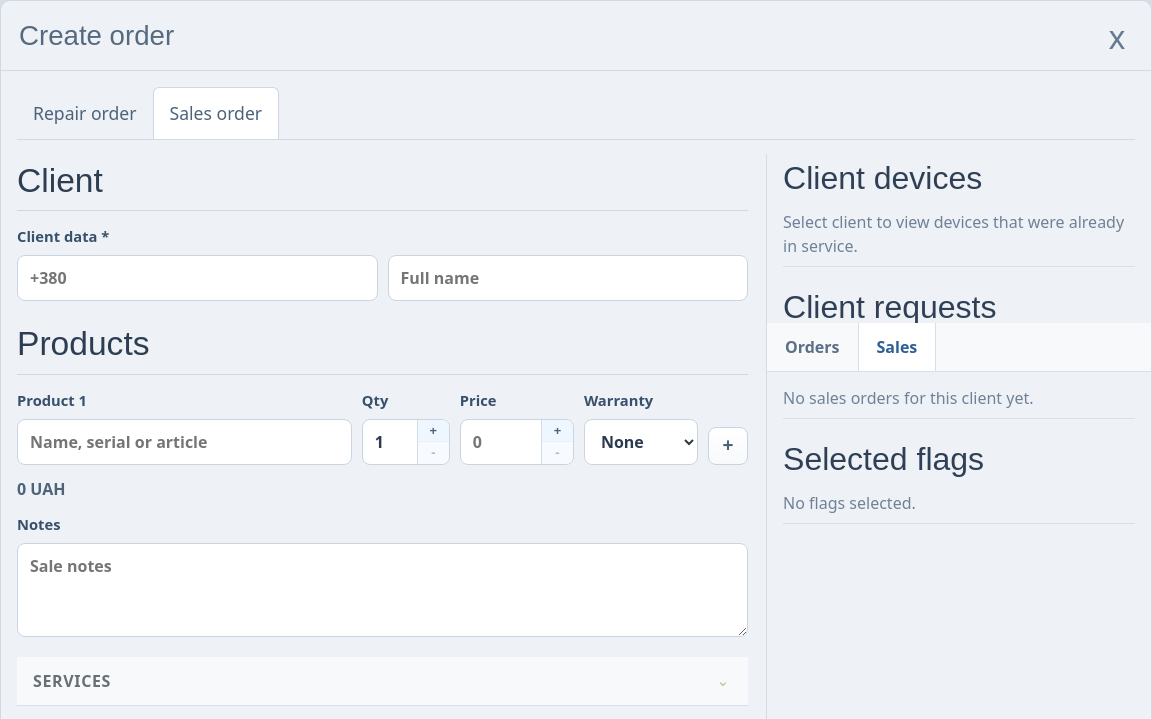
Test: CreateOrderCard › prefills retail price and product binding for bulk stock without serial
Type "USB-C" into the field with placeholder "Name, serial or article" at x=184, y=442, box [17, 419, 352, 465]
Wait 400 ms
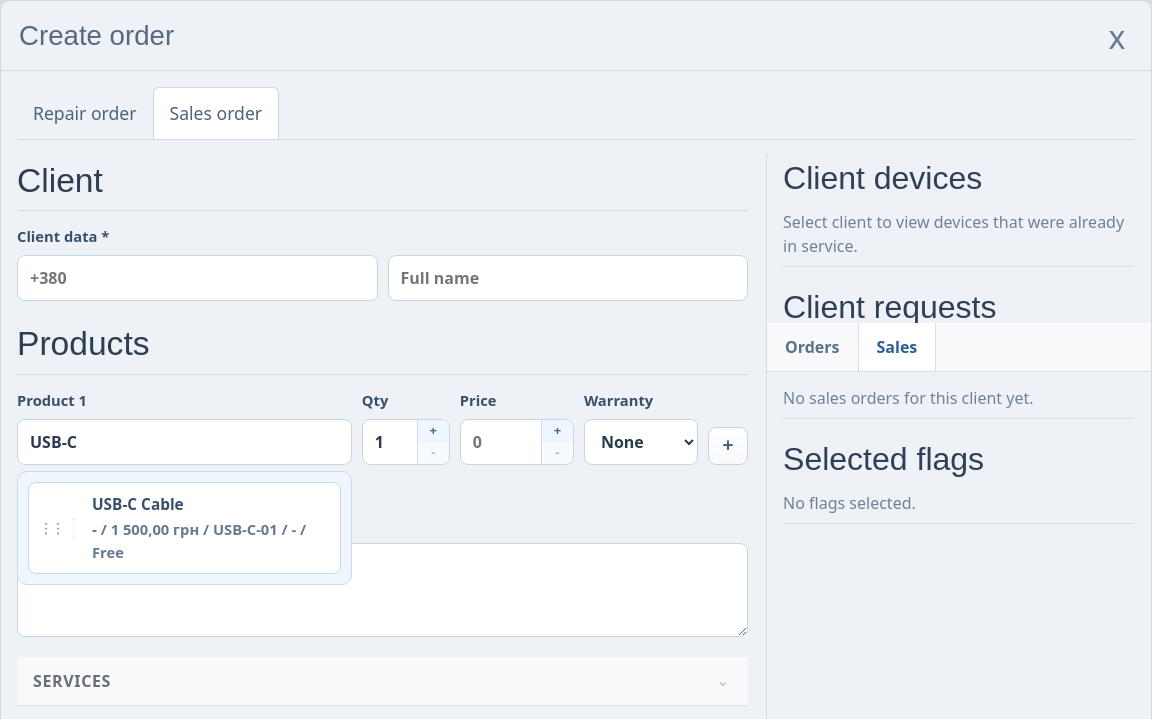
expect the text "USB-C Cable" is shown: met
Click the text "USB-C Cable" at x=138, y=504, box [92, 494, 184, 515]
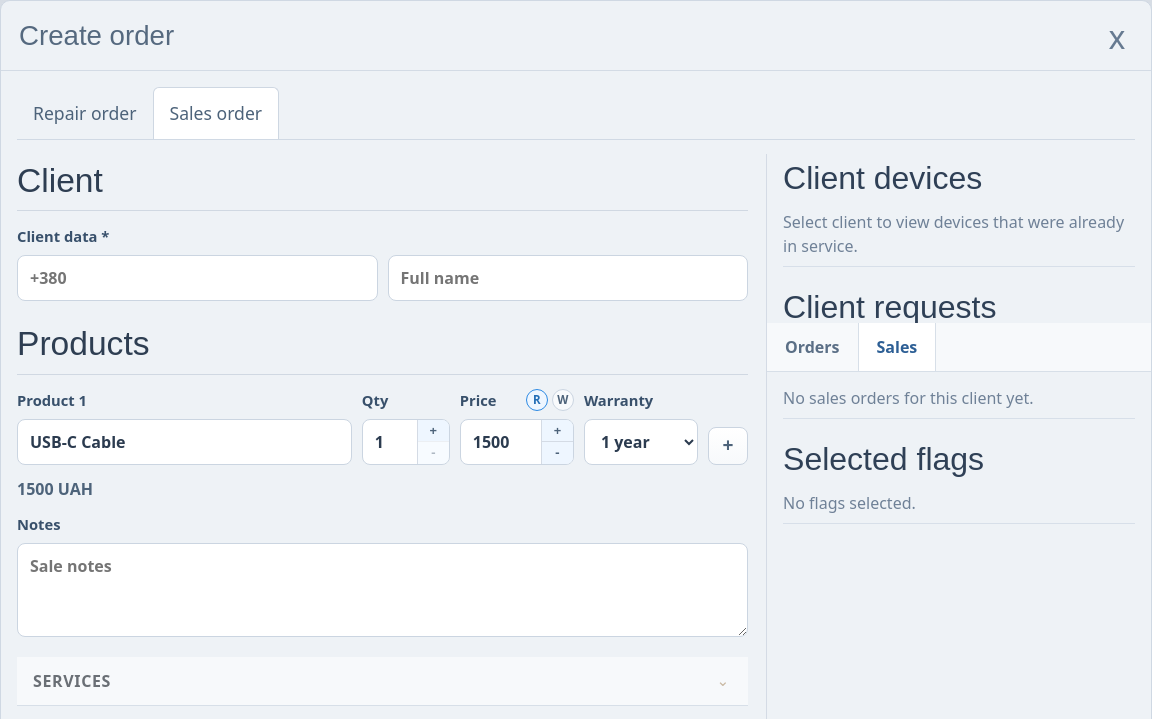
expect the button named "Retail" is shown: met, box [526, 389, 548, 411]
expect the field showing "1500" is shown: met, box [461, 420, 541, 464]
expect the button named "Wholesale" is shown: met, box [552, 389, 574, 411]
